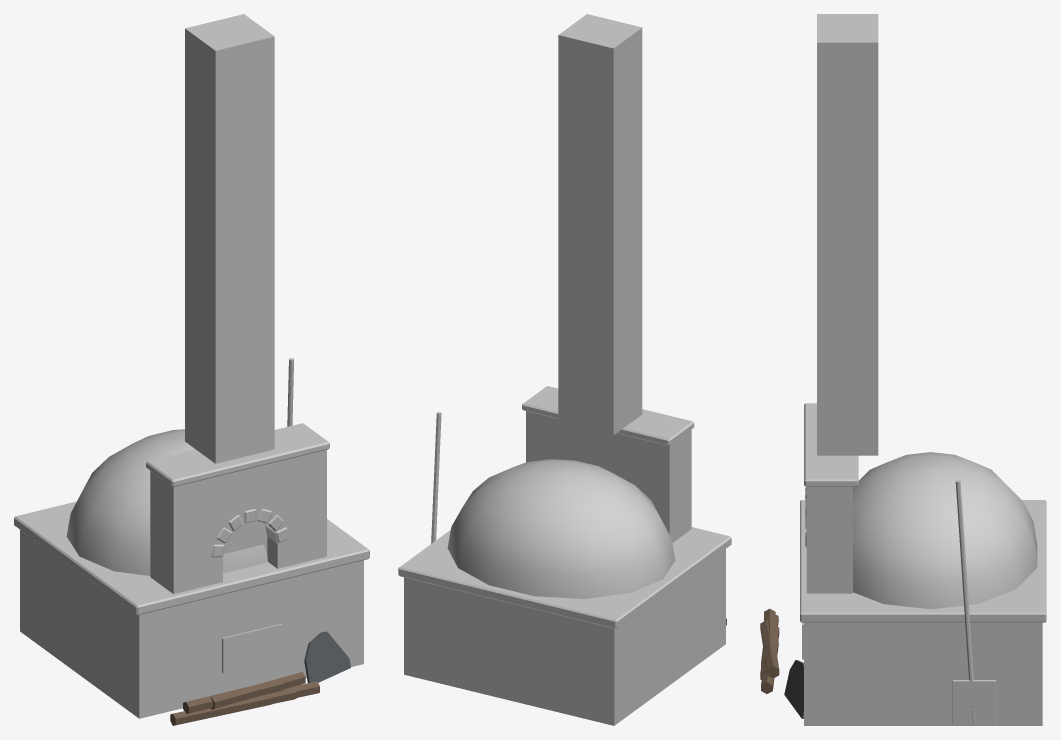
File: furn_oven.glb
The picture shows the model from 3 angles, left to right: view 1: azimuth 30°, elevation 25°; view 2: azimuth 150°, elevation 25°; view 3: azimuth 270°, elevation 25°; orthographic projection. The views are drawn at different scales.
Parts seen in each view (by area): view 1: furn_oven; view 2: furn_oven; view 3: furn_oven.
Part boxes in pixels (left/top/right/bottom): furn_oven: left=14, top=14, right=369, bottom=725; furn_oven: left=398, top=14, right=731, bottom=725; furn_oven: left=760, top=14, right=1046, bottom=725.
Bounding box in the file's own units: 2.02 × 5.2 × 2.1.
